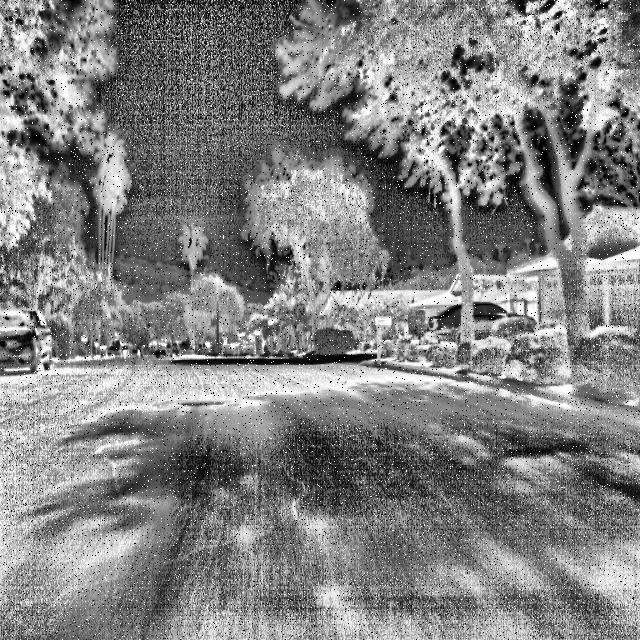car: (424, 290, 547, 361), (2, 289, 58, 387), (96, 330, 180, 368)
